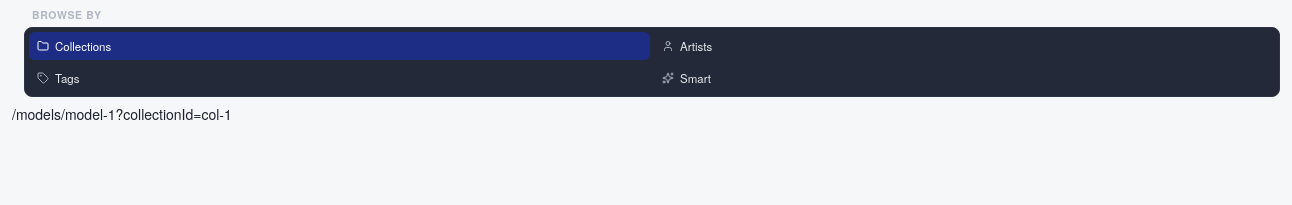
Scenario: AxisPicker › returns to library browsing when an axis is selected from a model page
This screenshot has width=1292, height=205.
Click the button "Tags" at [43, 78], box [29, 64, 650, 92]
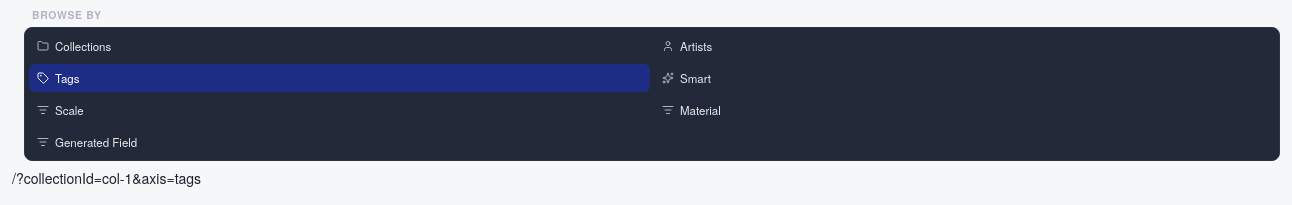
Expected: the text with test id "location" reads "/?collectionId=col-1&axis=tags", [16, 168, 201, 188]
